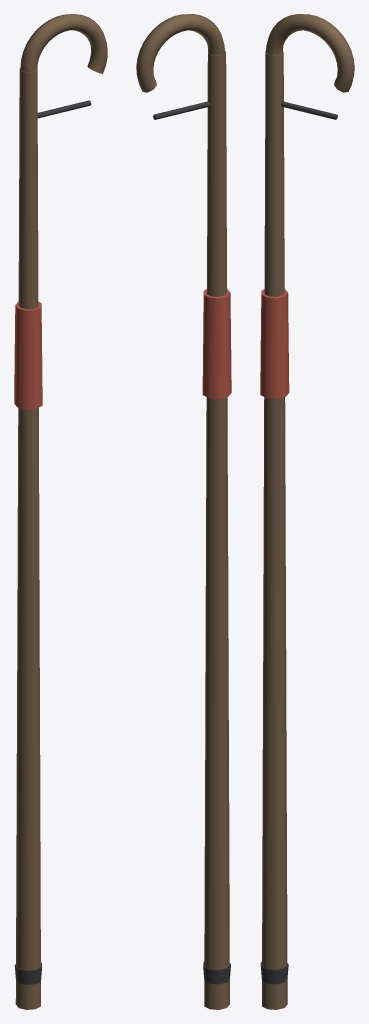
File: staff.glb
3 renders of one model, left to right at view 1: azimuth 30°, elevation 25°; view 2: azimuth 210°, elevation 25°; view 3: azimuth 330°, elevation 25°, orthographic.
Parts seen in each view (by area): view 1: shaft, grip, crook, ferrule, hook; view 2: shaft, grip, crook, ferrule, hook; view 3: shaft, grip, crook, ferrule, hook.
Part boxes in pixels (bbox=[...]): shaft: bbox=[15, 67, 40, 1009]; grip: bbox=[14, 301, 42, 409]; crook: bbox=[20, 14, 107, 73]; ferrule: bbox=[14, 962, 41, 984]; hook: bbox=[37, 100, 91, 118]; shaft: bbox=[204, 51, 229, 1009]; grip: bbox=[202, 289, 231, 398]; crook: bbox=[136, 14, 225, 92]; ferrule: bbox=[203, 962, 230, 984]; hook: bbox=[153, 101, 210, 119]; shaft: bbox=[262, 50, 287, 1009]; grip: bbox=[260, 289, 289, 398]; crook: bbox=[265, 14, 354, 92]; ferrule: bbox=[260, 962, 288, 984]; hook: bbox=[281, 101, 337, 119].
Bounding box in the file's own units: 0.1925 × 1.99 × 0.0524.
